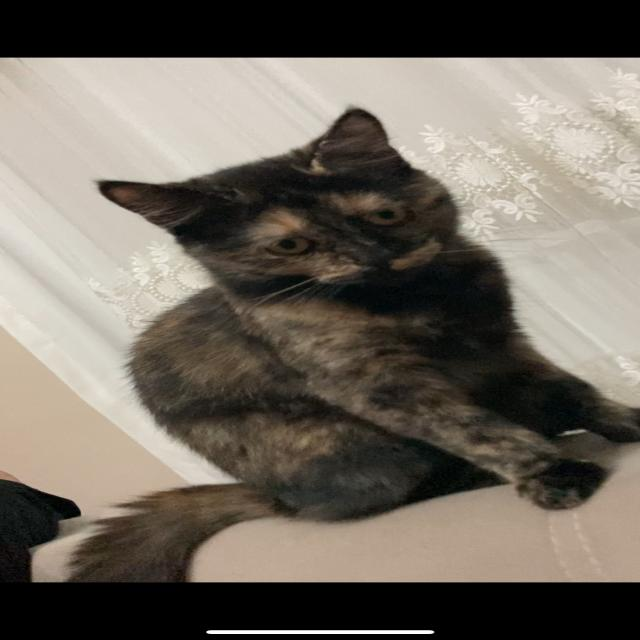authorized: (62, 105, 638, 581)
